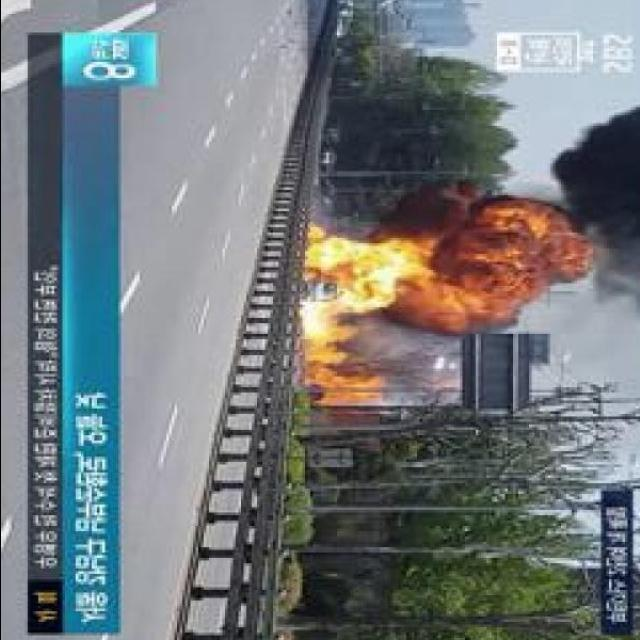Fire: (296, 234, 414, 326), (308, 332, 350, 402)
